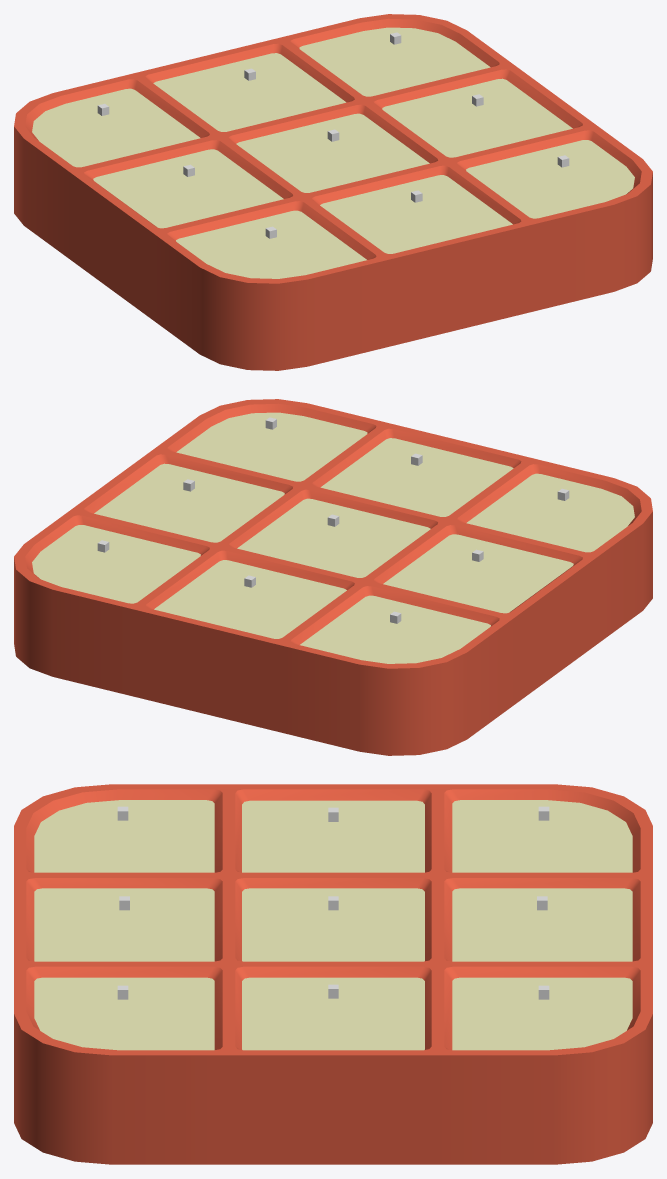
The picture shows the model from 3 angles, top to bottom: view 1: azimuth 30°, elevation 25°; view 2: azimuth 150°, elevation 25°; view 3: azimuth 270°, elevation 25°; orthographic projection. The views are drawn at different scales.
Visible parts, largest first — view 1: Grid_3x3; view 2: Grid_3x3; view 3: Grid_3x3.
Part boxes in pixels (left/top/right/bottom): Grid_3x3: left=14, top=14, right=652, bottom=370; Grid_3x3: left=14, top=399, right=652, bottom=755; Grid_3x3: left=14, top=784, right=652, bottom=1164.
Size of the model in its own units: 12.17 by 2.73 by 12.11.
